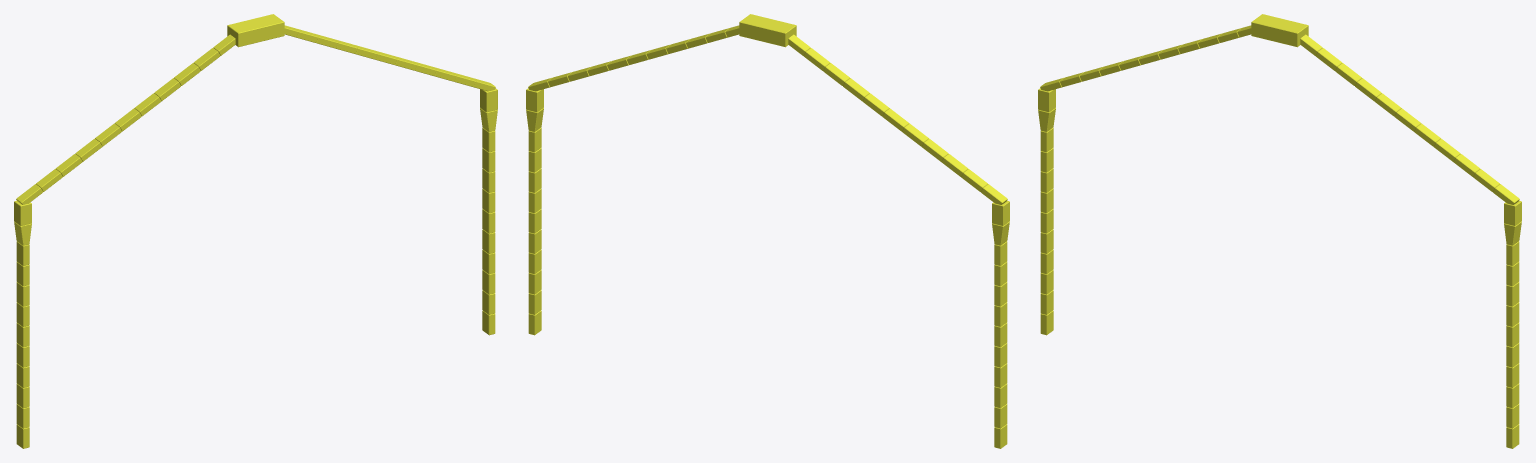
The model's file is MezzanineWalkway_WallStoneSupport.FBX.
The picture shows the model from 3 angles, left to right: view 1: azimuth 30°, elevation 25°; view 2: azimuth 150°, elevation 25°; view 3: azimuth 330°, elevation 25°; orthographic projection.
Visible parts, largest first — view 1: Forehall_WallStoneRim; view 2: Forehall_WallStoneRim; view 3: Forehall_WallStoneRim.
Part boxes in pixels (x1=…): Forehall_WallStoneRim: x1=14, y1=14, x2=497, y2=448; Forehall_WallStoneRim: x1=526, y1=14, x2=1009, y2=448; Forehall_WallStoneRim: x1=1038, y1=14, x2=1521, y2=448.
Bounding box in the file's own units: 24.6 × 18 × 1.
